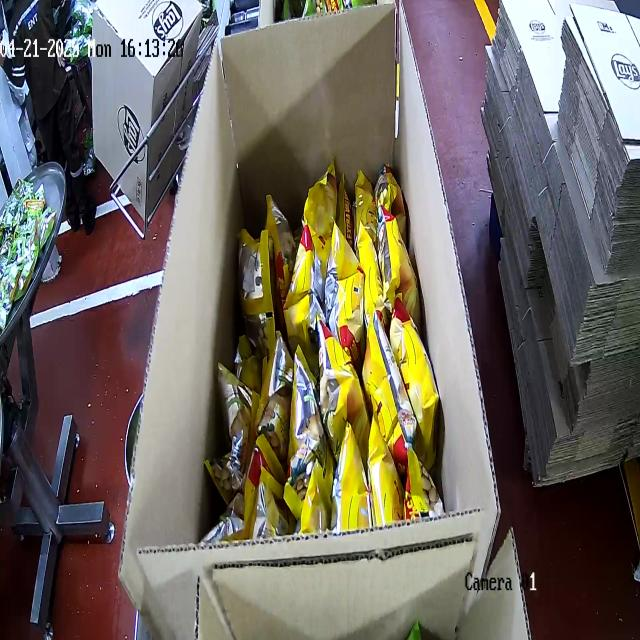SALTED: (210, 155, 449, 522)
